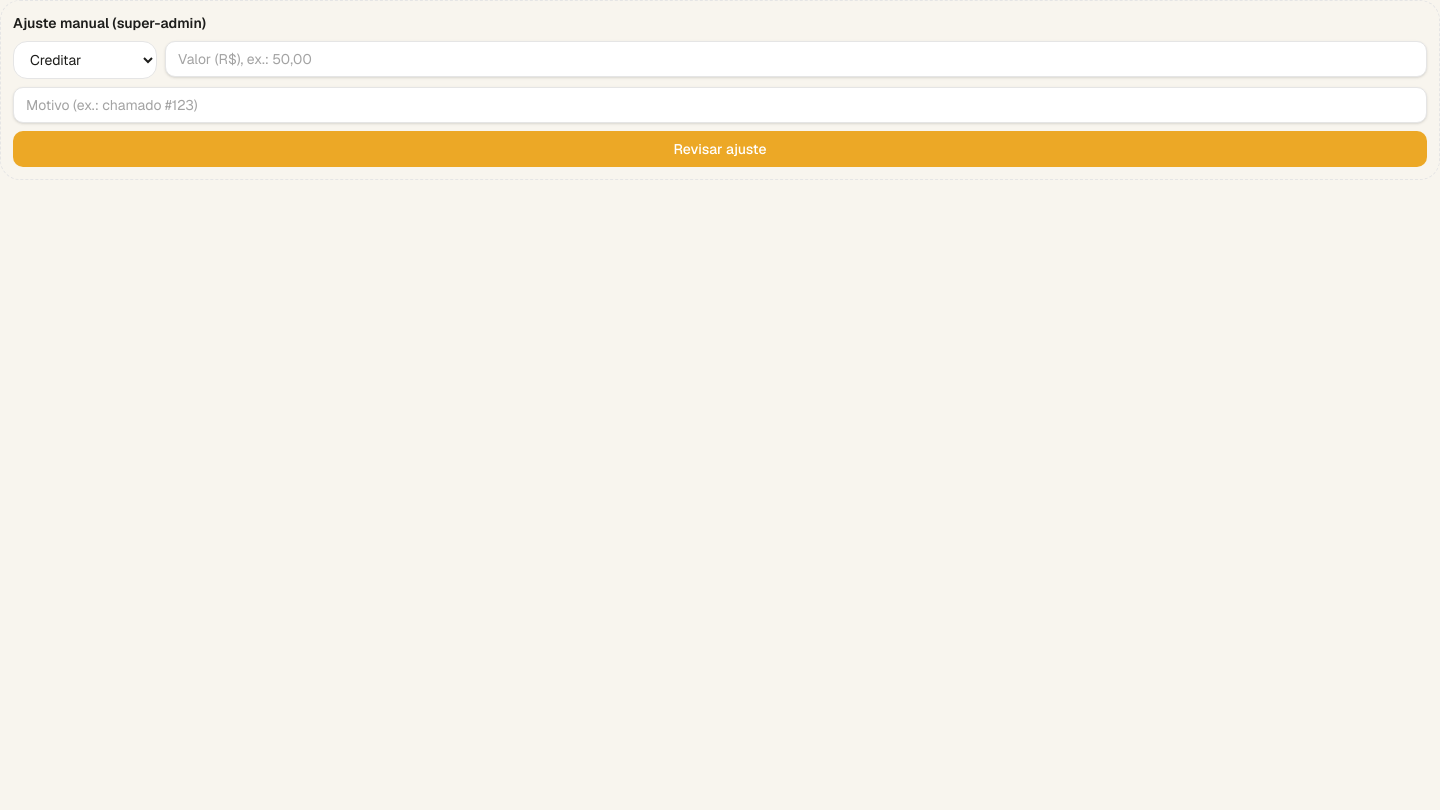
Test: Ajuste manual da carteira › 'Voltar' fecha a conferência sem gravar
This screenshot has width=1440, height=810.
Select "Creditar" in the dropdown named "Sentido do ajuste": (85, 60) [13,41,157,79]
In the field labelled "Valor (R$)": (796, 59) [165,41,1427,77], type "50,00"
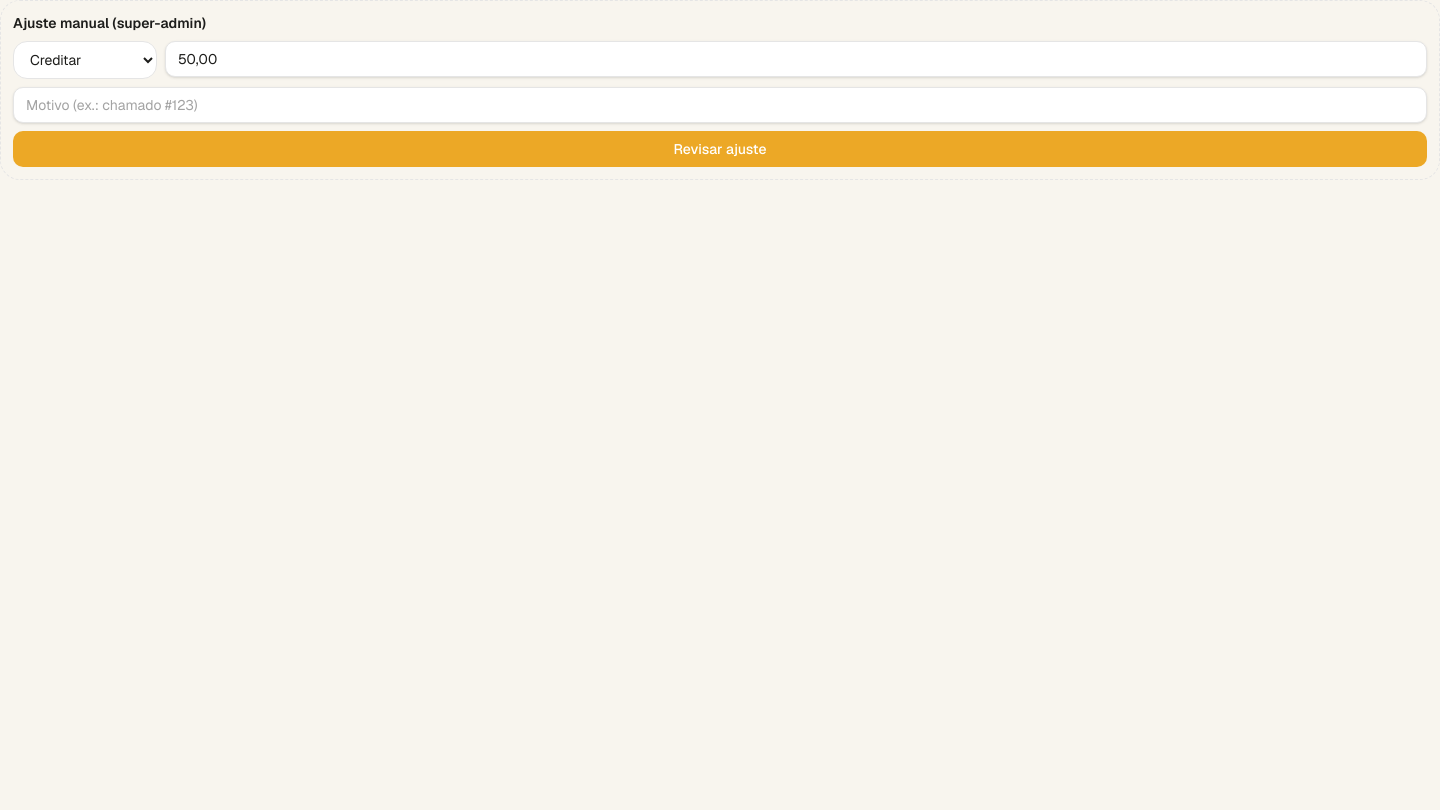
In the field labelled "Motivo": (720, 105) [13,87,1427,123], type "Chamado #123"
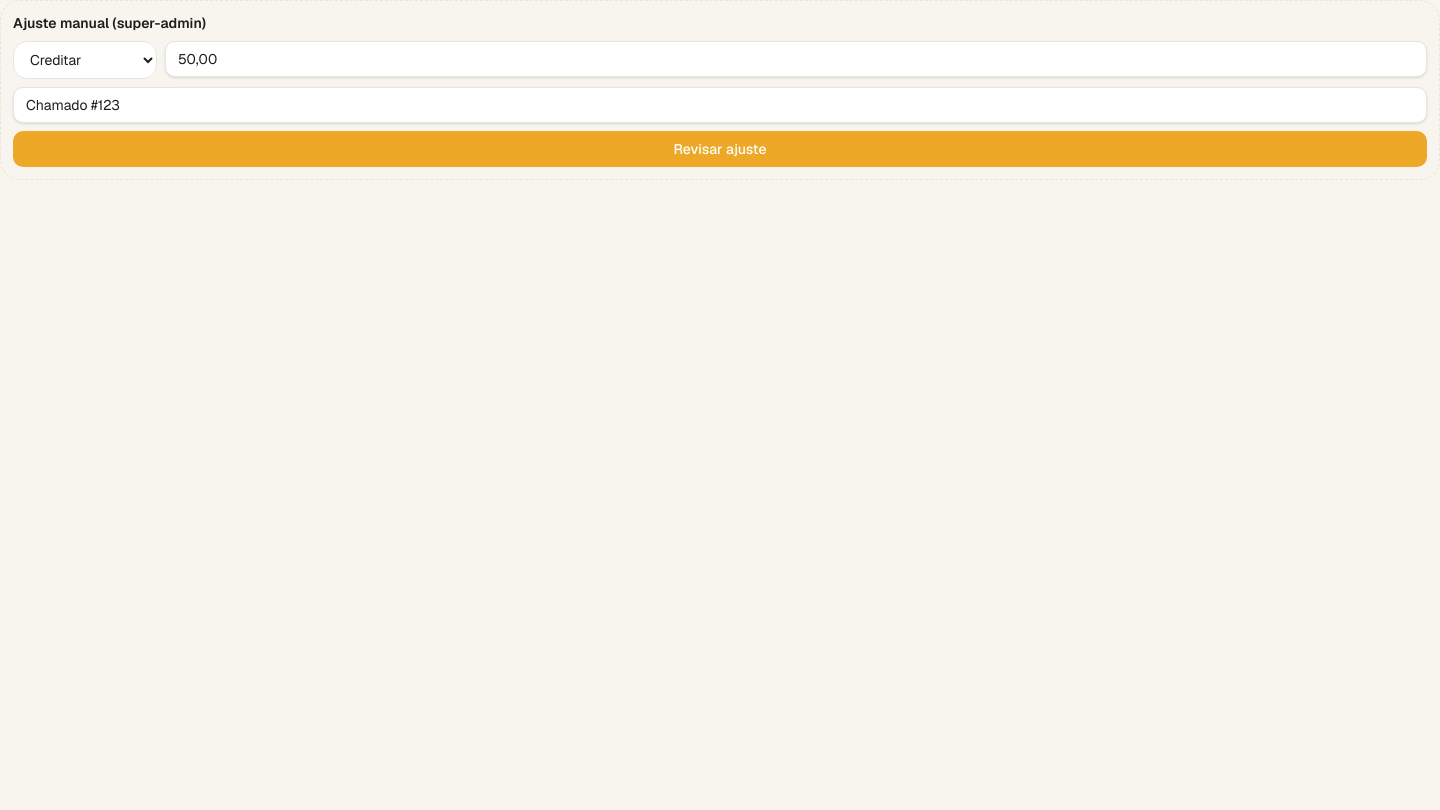
Click the button "Revisar ajuste": (720, 149) [13,131,1427,167]
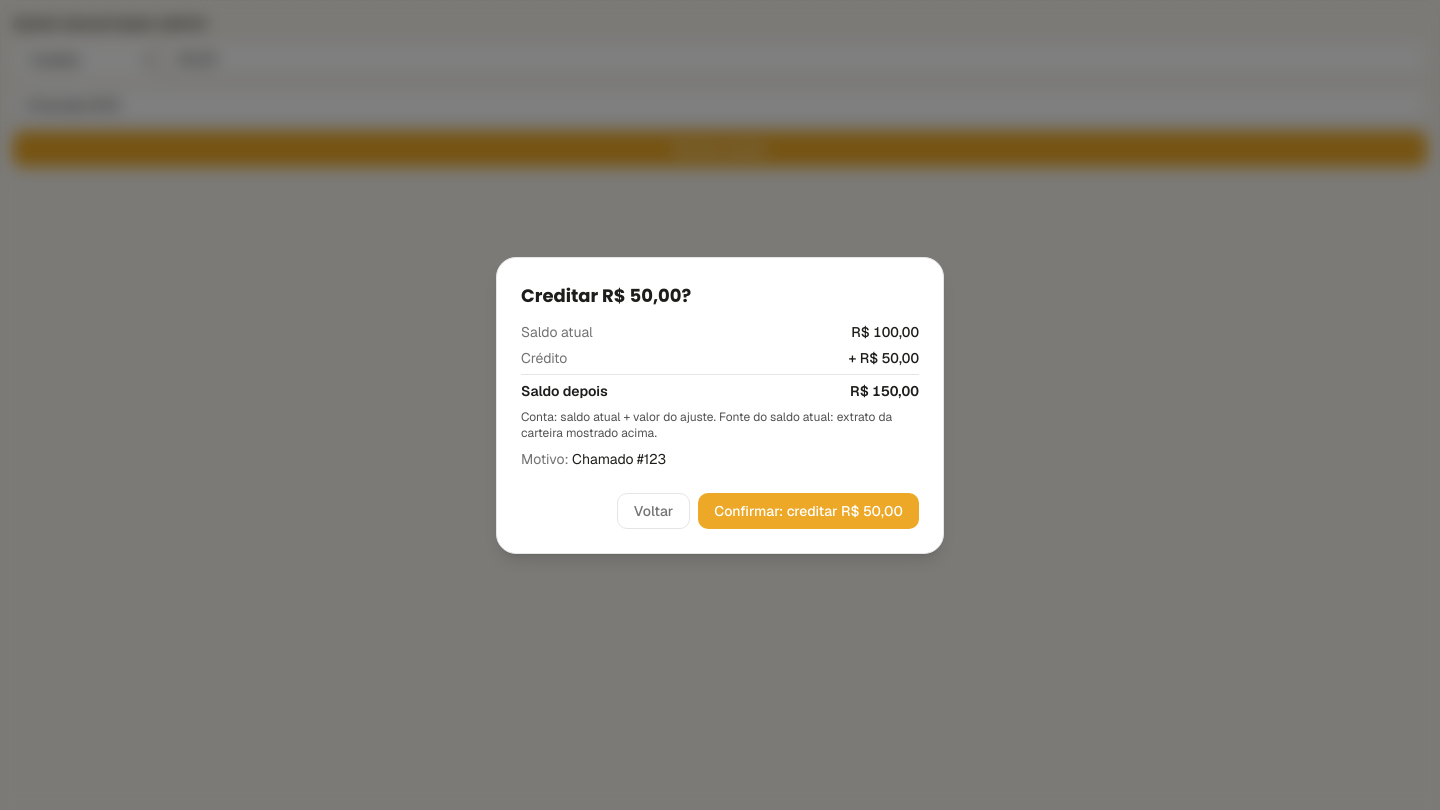
Click the button "Voltar": (654, 510) [617,492,690,528]
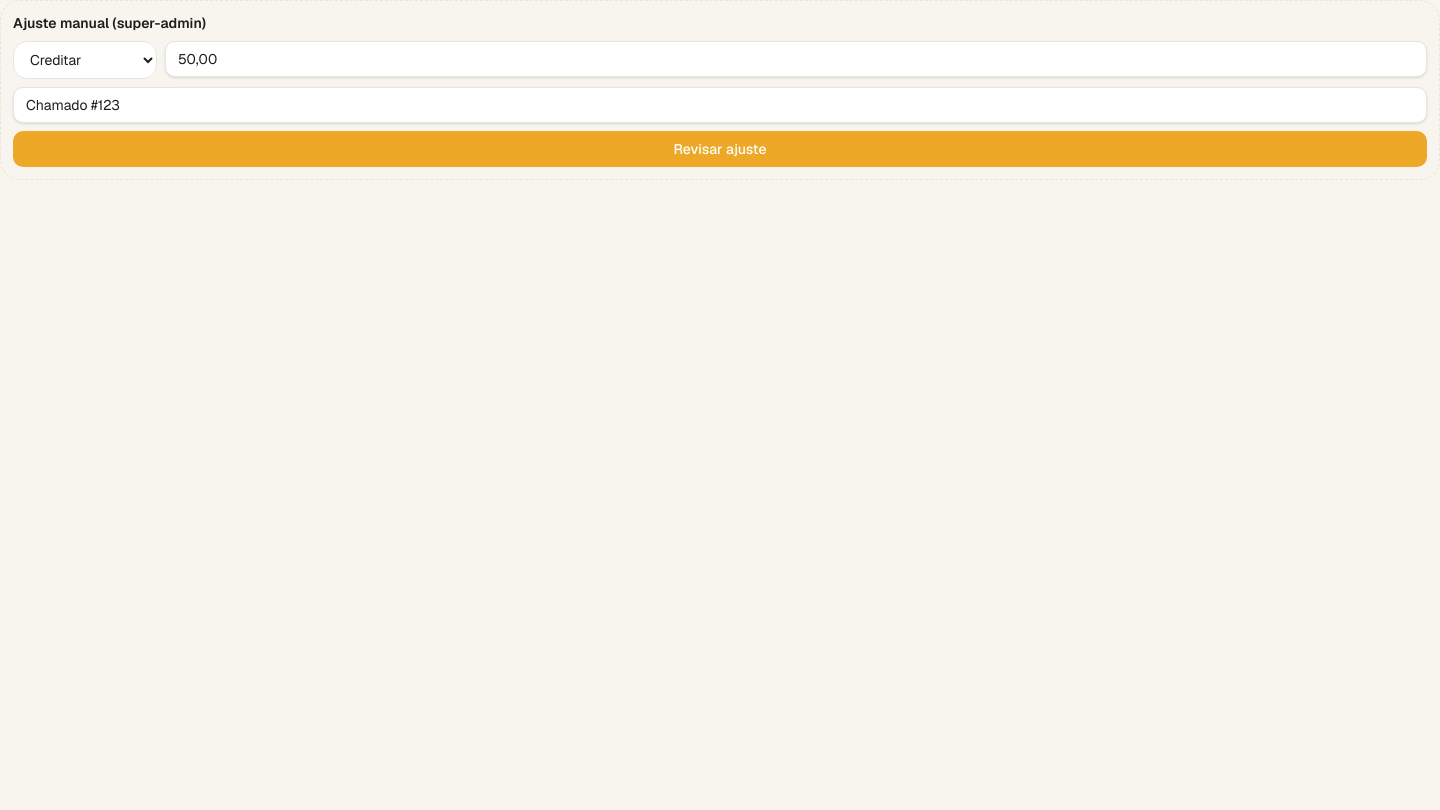
Expected: the dialog is gone
